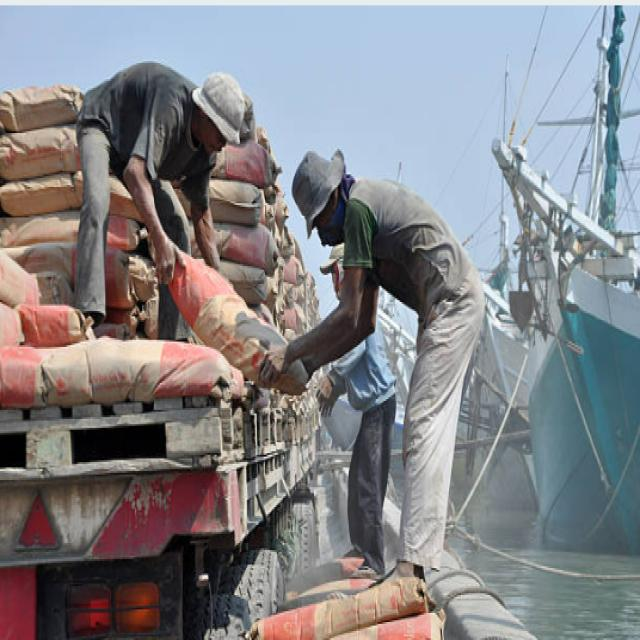KantongSemen: (161, 231, 307, 396), (0, 340, 243, 407), (250, 567, 443, 640), (0, 86, 81, 212), (0, 243, 89, 344)
